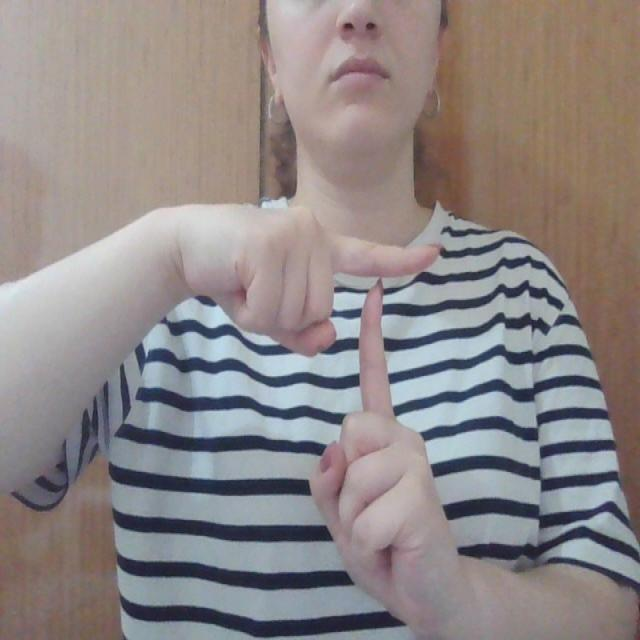Tesekkurler: (317, 216, 448, 460)
